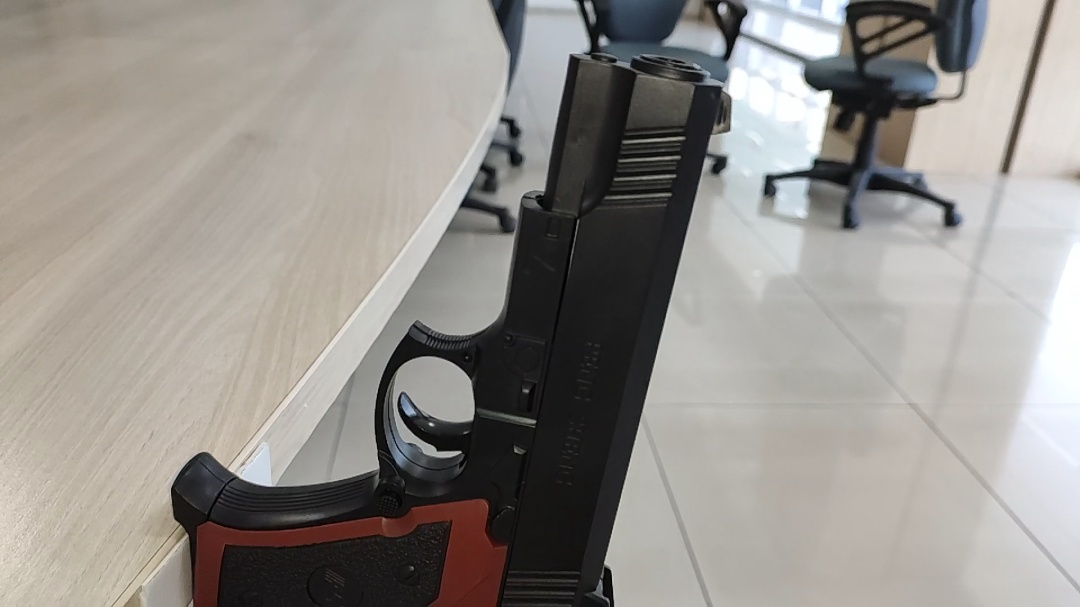gun: (592, 266, 643, 284)
